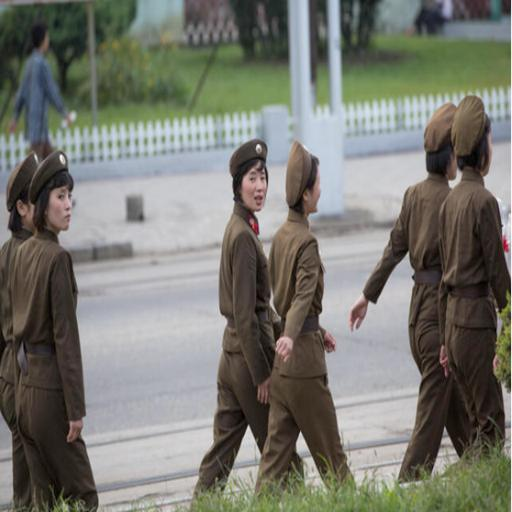north army: (191, 117, 387, 493), (0, 124, 150, 512), (366, 89, 512, 457)
